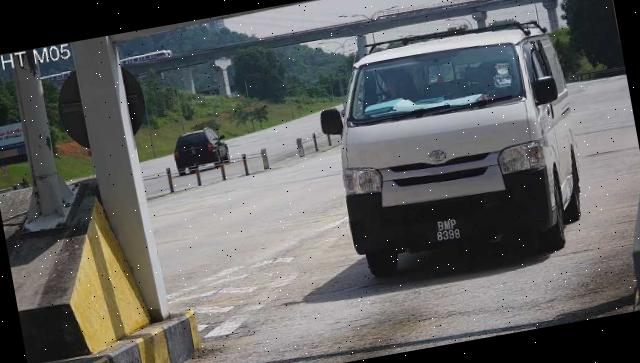License_Plate: (421, 210, 477, 250)
van: (321, 14, 594, 284)
